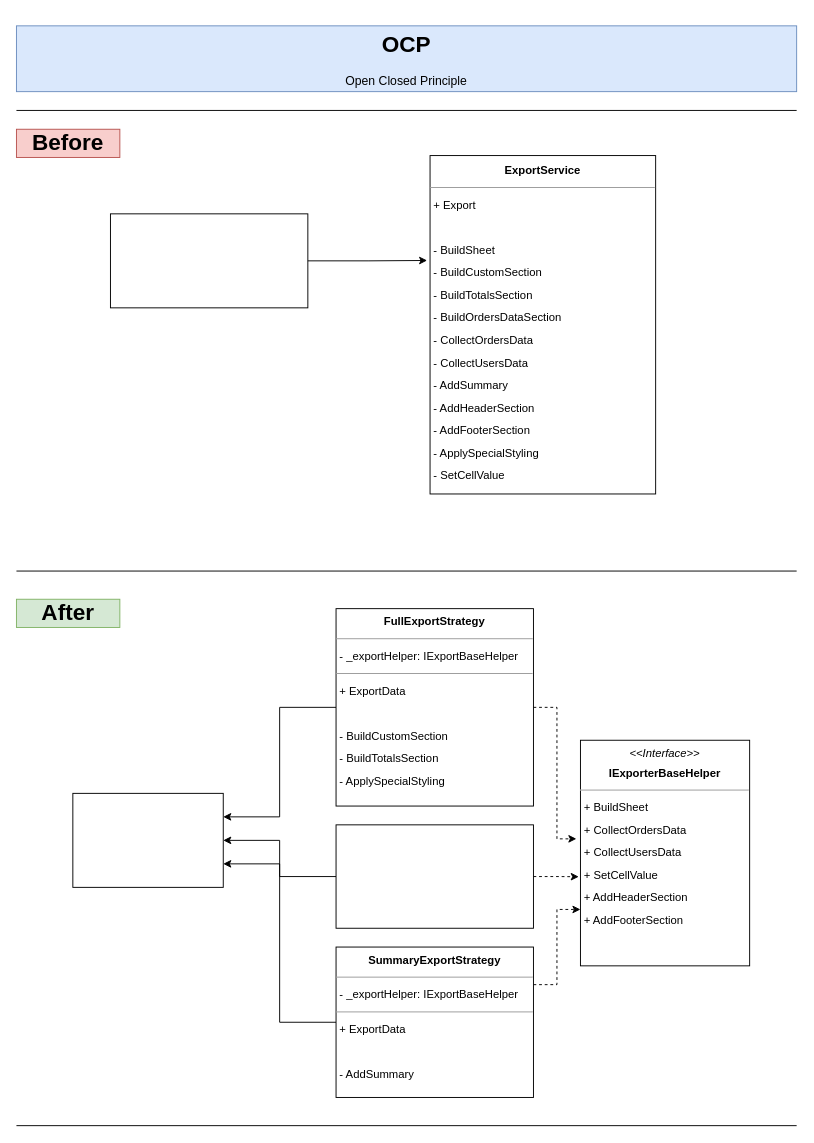
This 814x1143 diagram has some shape labels left out. Each missing label, with the box of its shape:
<<Interface>> IExportStrategy + Export: (72, 792, 223, 887)
LimitedExportStrategy - _exportHelper: IExportBaseHelper + ExportData: (335, 824, 533, 928)
Orders + Export: (110, 213, 308, 308)
